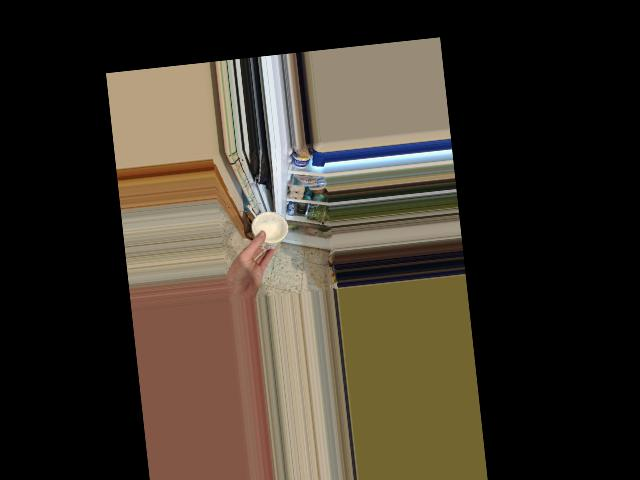cotage: (249, 213, 280, 250)
